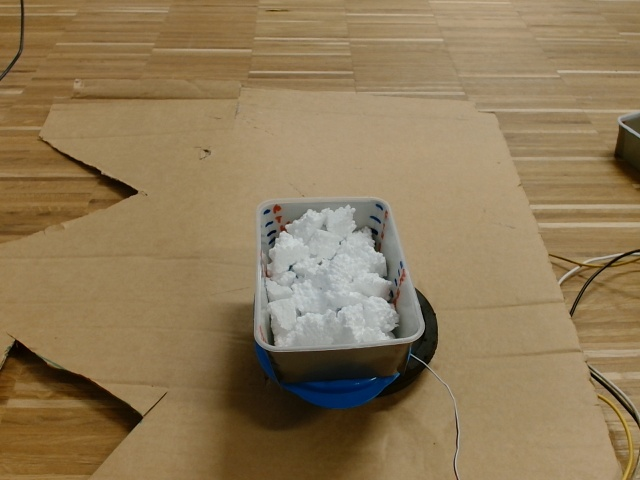Small_half: (251, 191, 420, 351)
